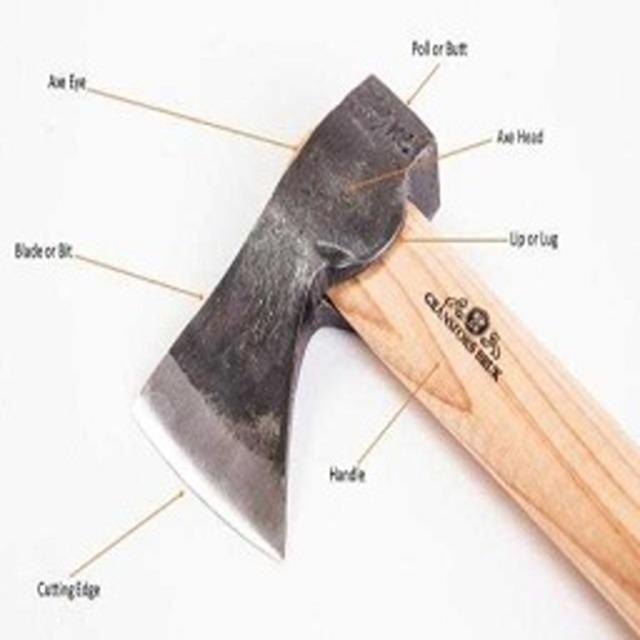ax: (108, 59, 640, 640)
